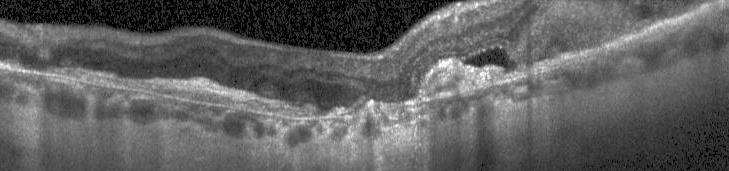neuroepithelium_detachment: (463, 46, 516, 68)
subretinal_hyperreflective_material: (54, 68, 316, 116), (420, 60, 527, 100), (327, 96, 404, 116)
